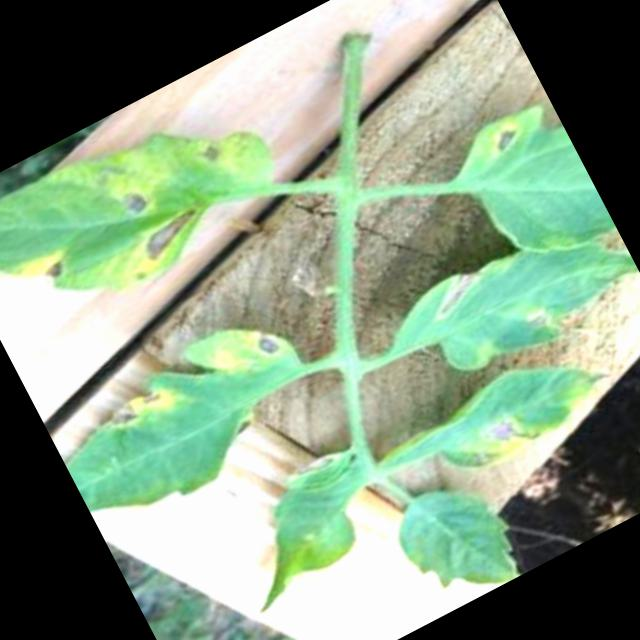Early_blight: (111, 203, 215, 287), (93, 373, 188, 445), (419, 259, 492, 326), (12, 243, 75, 298), (475, 412, 529, 466), (242, 323, 292, 373), (113, 183, 157, 224), (487, 119, 528, 157), (292, 451, 338, 484), (521, 306, 556, 339)
